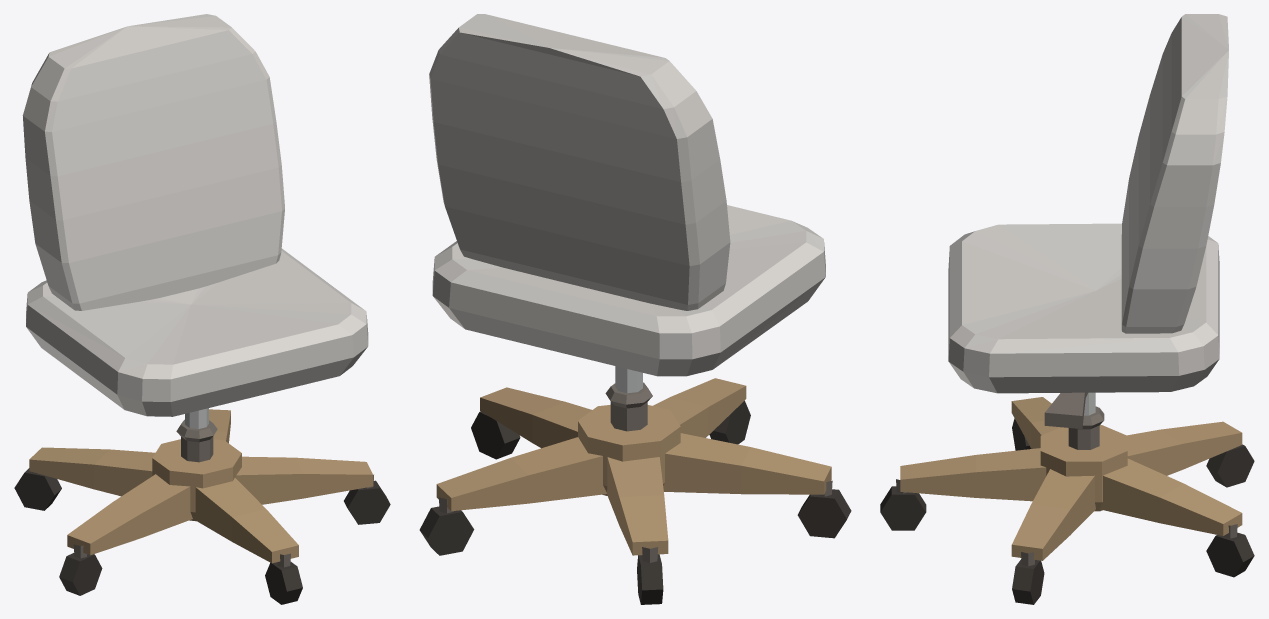
The model's file is officechair.glb.
3 renders of one model, left to right at view 1: azimuth 30°, elevation 25°; view 2: azimuth 150°, elevation 25°; view 3: azimuth 270°, elevation 25°, orthographic. The views are drawn at different scales.
Visible parts, largest first — view 1: seat-column, base; view 2: seat-column, base; view 3: seat-column, base.
Part boxes in pixels (x1,y1,x2,y2): seat-column: (22,14,368,428); base: (14,409,390,604); seat-column: (429,14,825,393); base: (419,378,851,604); seat-column: (948,14,1228,428); base: (880,397,1254,604).
Size of the model in its own units: 0.6528 by 0.872 by 0.6208.
